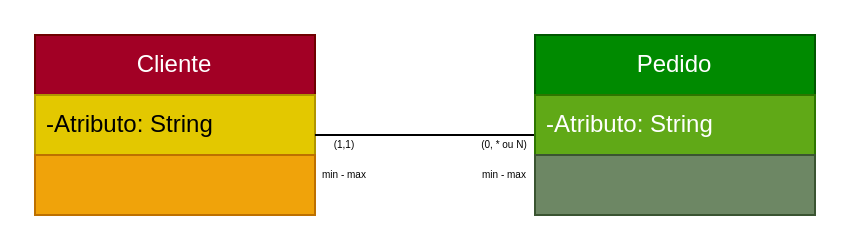
Some shapes in this 850 by 250 pixel diagram are drawn without their labels. Here are the shapes that lost their labels. From the top down, the centre of each, then its label:
At point (174, 184): "+método(): void".
At point (674, 184): "+método(): int".
